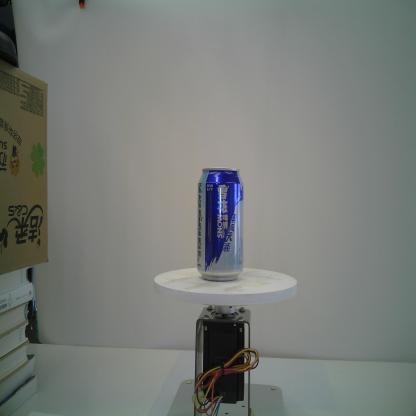Alcohol: (196, 167, 245, 283)
